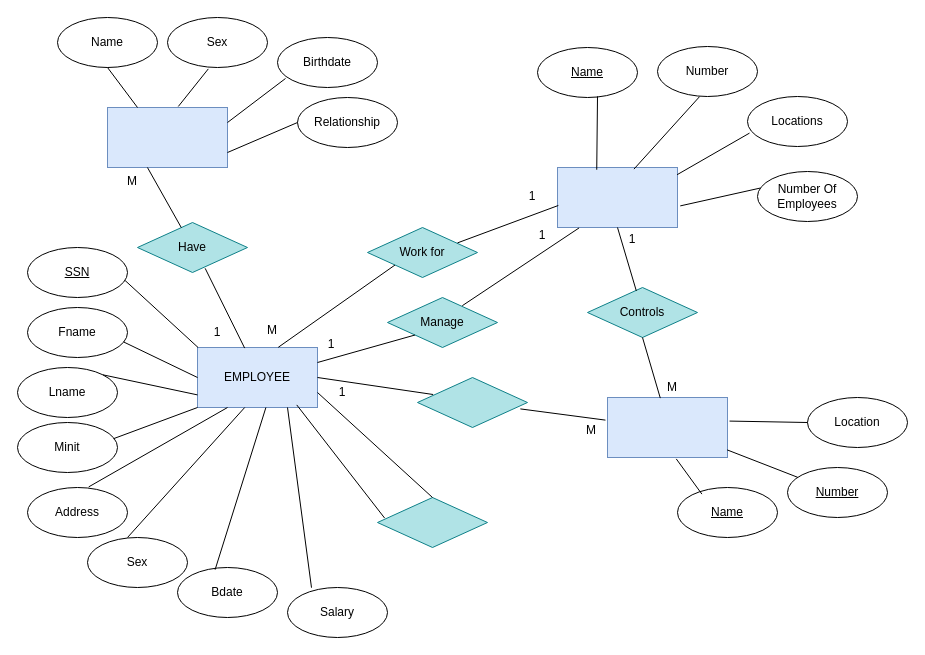
This 925x655 diagram has some shape labels left out. The centre of each missing label's shape, as x and y in pixels:
DEPARTMENT: (617,197)
DEPENDENT: (167,137)
PROJECT: (667,427)
Supervisor: (432,522)
Work on: (472,402)
